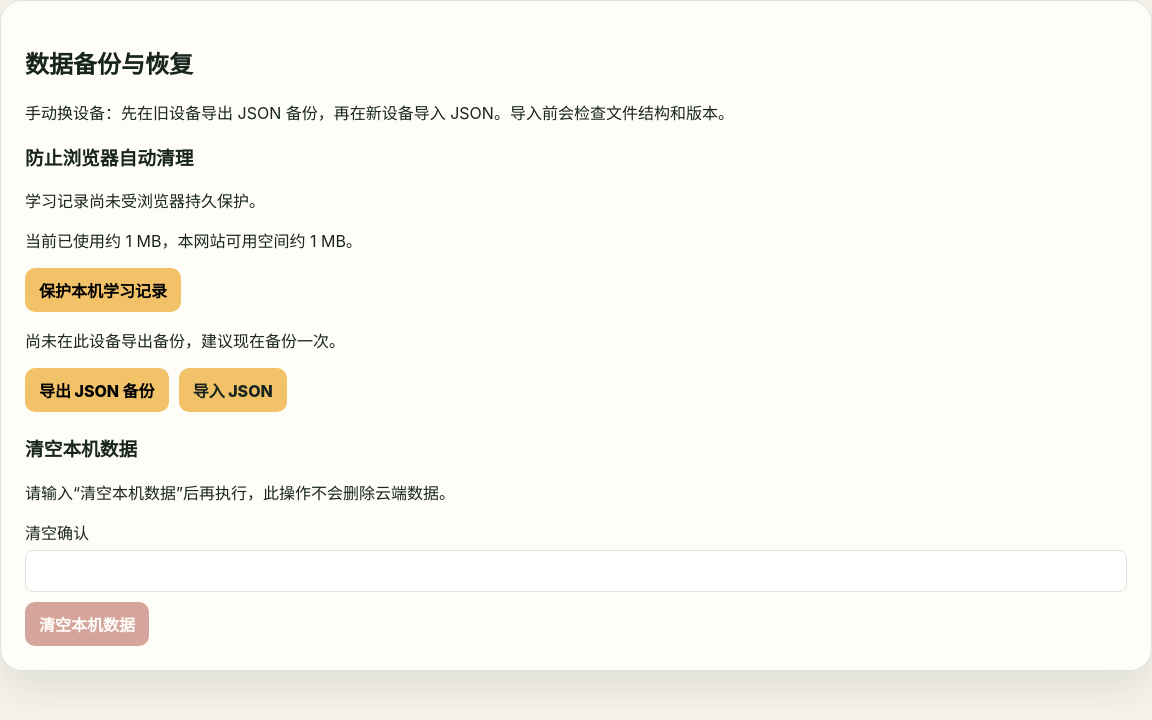
Scenario: DataManagement › lets the learner request protection from automatic browser cleanup
Click the button "保护本机学习记录". click: (103, 290)
box: [25,268,181,312]
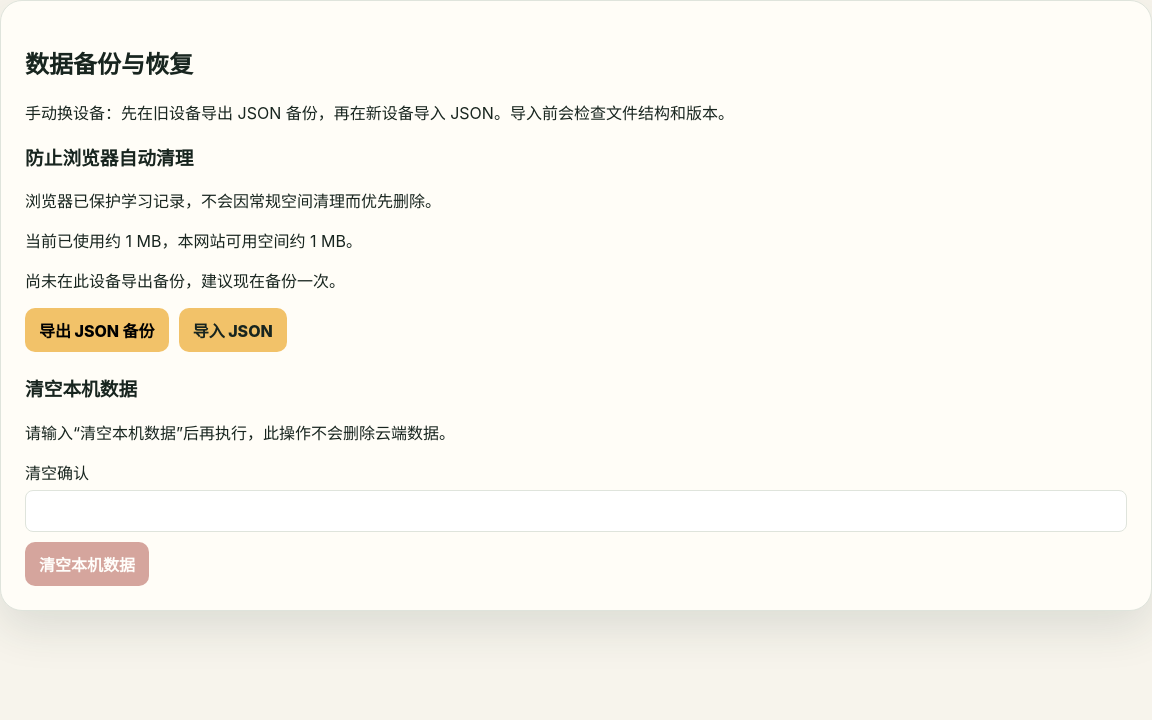
expect the text "浏览器已保护学习记录，不会因常规空间清理而优先删除。" is shown: met, box [25,191,441,211]
